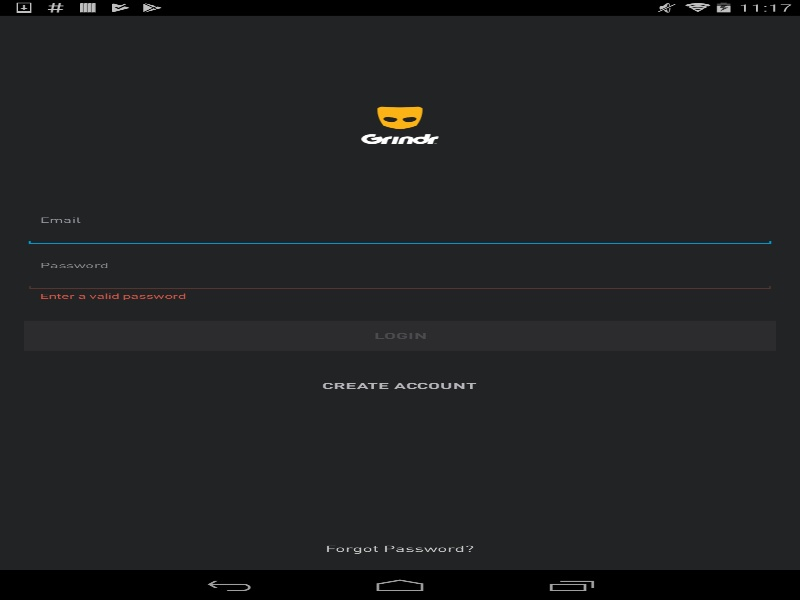Button: (24, 320, 776, 350), (322, 370, 477, 400), (325, 533, 474, 563)
Input: (24, 267, 776, 291), (24, 222, 776, 245)
